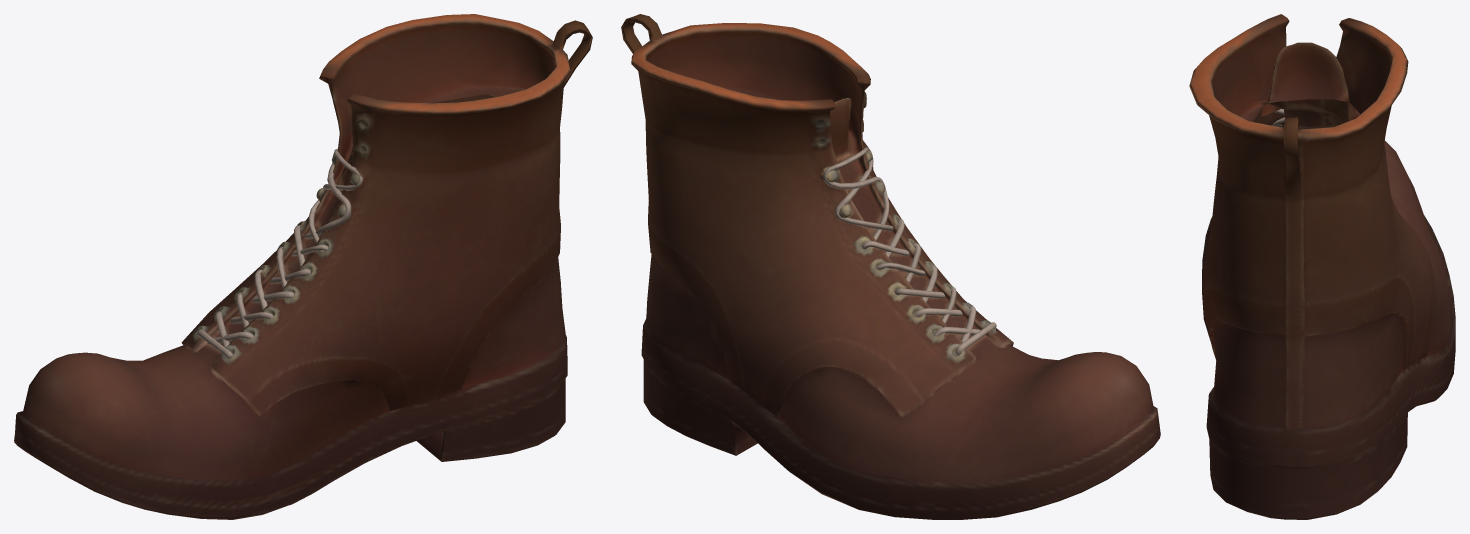
The model's file is SM_Shoes_Right.fbx.
3 renders of one model, left to right at view 1: azimuth 30°, elevation 25°; view 2: azimuth 150°, elevation 25°; view 3: azimuth 270°, elevation 25°, orthographic. The views are drawn at different scales.
Visible parts, largest first — view 1: SM_Shoes_Right_LOD0; view 2: SM_Shoes_Right_LOD0; view 3: SM_Shoes_Right_LOD0.
Part boxes in pixels (<box>): SM_Shoes_Right_LOD0: <box>14,14,592,519</box>; SM_Shoes_Right_LOD0: <box>621,14,1160,519</box>; SM_Shoes_Right_LOD0: <box>1189,14,1455,519</box>.
Size of the model in its own units: 30.88 by 11.91 by 20.44.
1 material, 1 textured.
